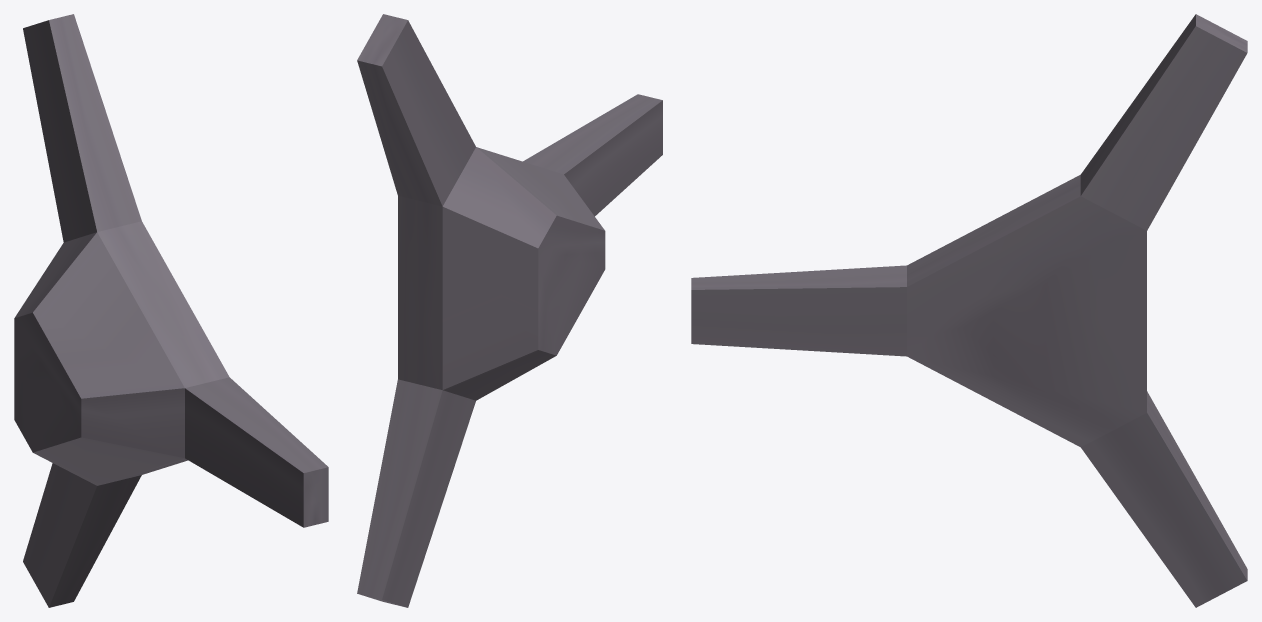
Rendered from WW2BomberFarLeftRotor.fbx.
3 renders of one model, left to right at view 1: azimuth 30°, elevation 25°; view 2: azimuth 150°, elevation 25°; view 3: azimuth 270°, elevation 25°, orthographic.
Parts seen in each view (by area): view 1: Cube.003; view 2: Cube.003; view 3: Cube.003.
Part boxes in pixels (box(x1,y1,x2,y2)): Cube.003: box(14, 14, 328, 607); Cube.003: box(357, 14, 662, 607); Cube.003: box(691, 14, 1247, 607).
Size of the model in its own units: 4.4 by 21.07 by 18.25.
